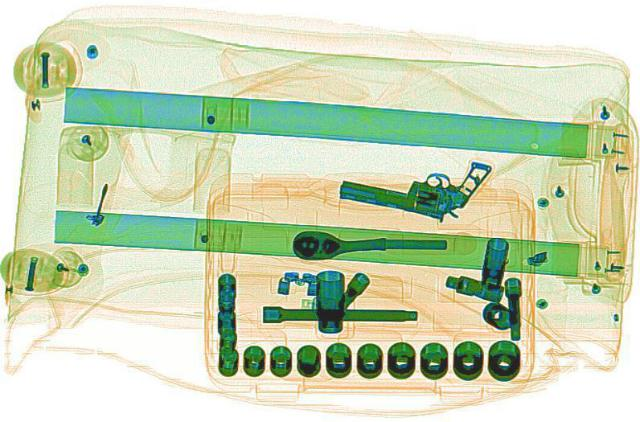Gun: (328, 137, 496, 225)
